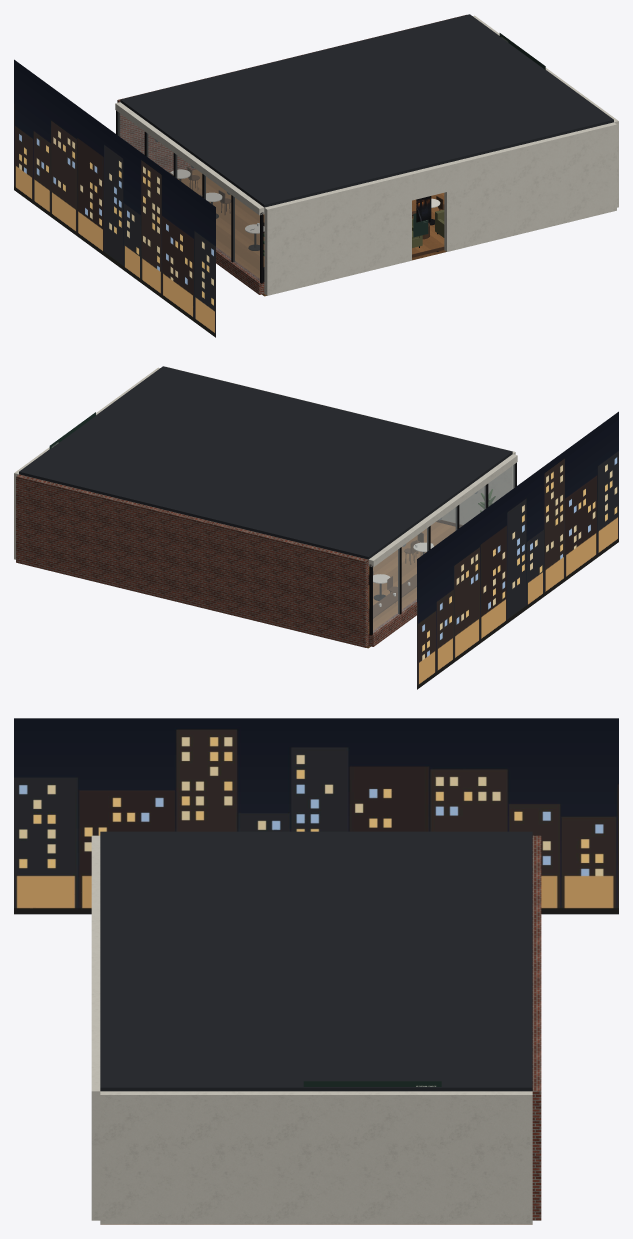
Rendered from harbor_cafe_baked.glb.
3 views of the same model, one above another, from view 1: azimuth 30°, elevation 25°; view 2: azimuth 150°, elevation 25°; view 3: azimuth 270°, elevation 25° (orthographic). The views are drawn at different scales.
Visible parts, largest first — view 1: Cafe_Shell_Baked, Cafe_Storefront_View, Cafe_Glass, Cafe_Furniture_Baked, Cafe_Storefront_Baked; view 2: Cafe_Shell_Baked, Cafe_Storefront_View, Cafe_Glass, Cafe_Furniture_Baked, Cafe_Storefront_Baked; view 3: Cafe_Shell_Baked, Cafe_Storefront_View, Cafe_Menu_Board_Baked.
Boxes of the visible parts, x1,y1,x2,y2 form: Cafe_Shell_Baked: (115, 14, 618, 296); Cafe_Storefront_View: (14, 59, 215, 337); Cafe_Glass: (118, 112, 259, 280); Cafe_Furniture_Baked: (168, 166, 444, 281); Cafe_Storefront_Baked: (116, 110, 263, 283); Cafe_Shell_Baked: (14, 366, 517, 648); Cafe_Storefront_View: (417, 411, 618, 689); Cafe_Glass: (373, 464, 514, 632); Cafe_Furniture_Baked: (368, 489, 495, 621); Cafe_Storefront_Baked: (369, 462, 516, 635); Cafe_Shell_Baked: (91, 831, 541, 1224); Cafe_Storefront_View: (14, 718, 618, 914); Cafe_Menu_Board_Baked: (303, 1081, 441, 1086).
Size of the model in its own units: 17.3 by 5 by 14.
36 materials, 10 textured.
